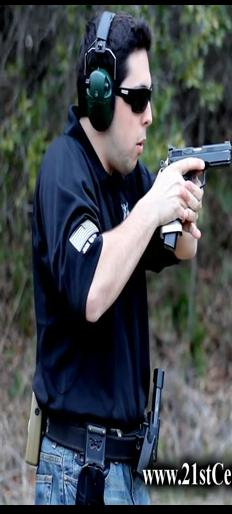pistol: (163, 140, 232, 249)
